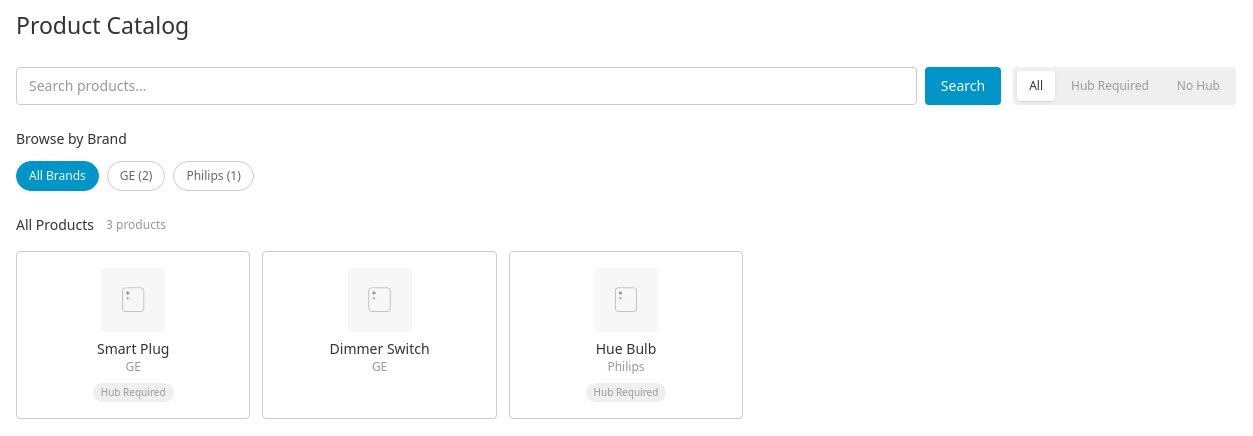
Test case: ProductCatalogPage – hub requirement filter › shows all products when All filter is clicked
Click the button "No Hub" at [1198, 86], box left=1165, top=70, right=1232, bottom=100
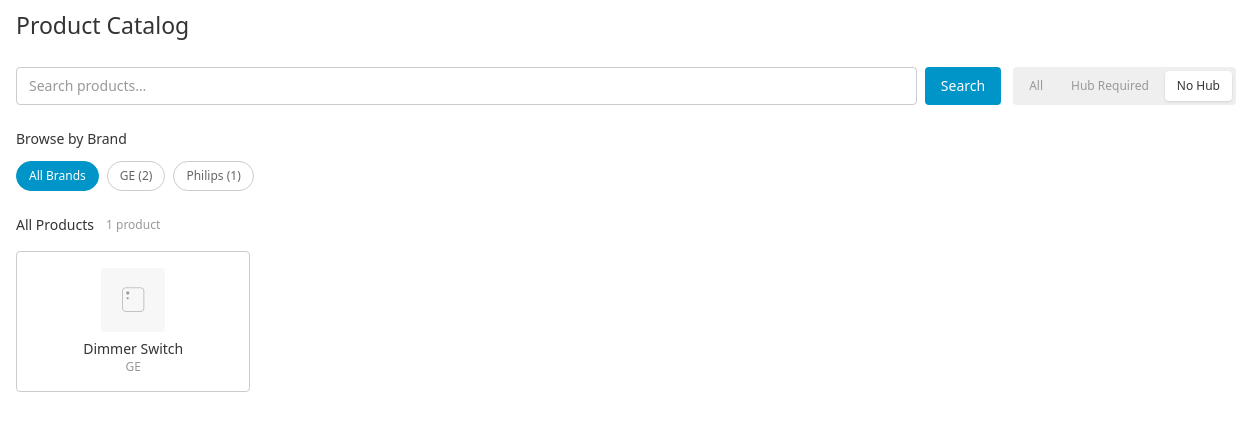
Click the button "All" at [1036, 86], box left=1017, top=70, right=1055, bottom=100
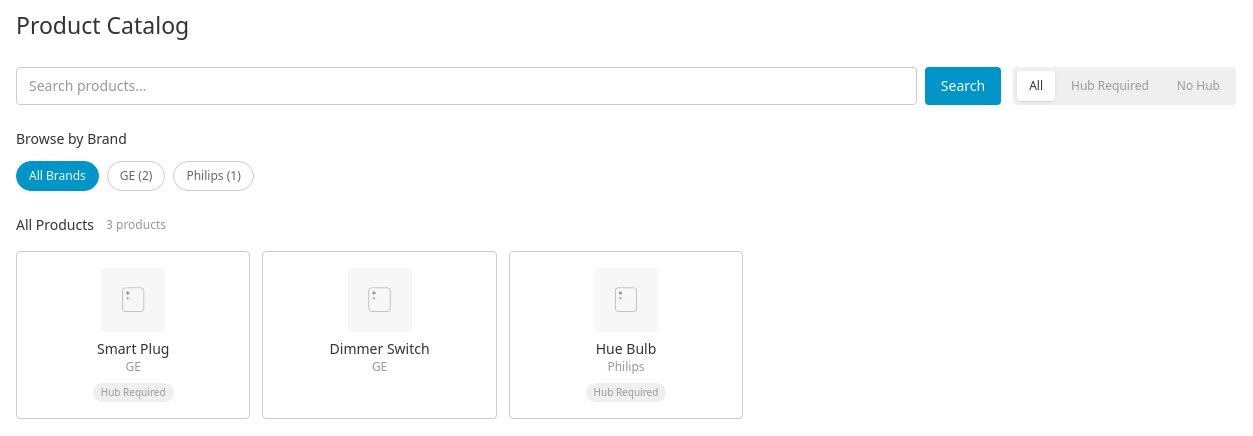
Expected: the text "Dimmer Switch" is shown, left=330, top=340, right=430, bottom=357
Expected: the text "Smart Plug" is shown, left=97, top=340, right=170, bottom=357
Expected: the text "Hue Bulb" is shown, left=596, top=340, right=656, bottom=357
